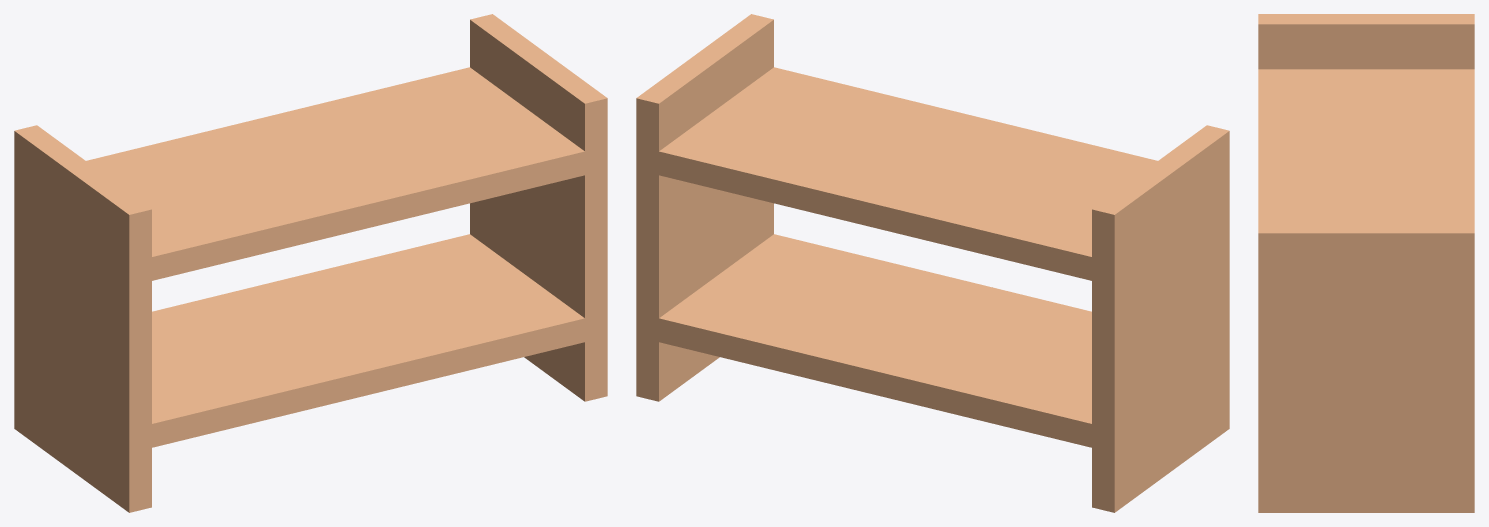
The picture shows the model from 3 angles, left to right: view 1: azimuth 30°, elevation 25°; view 2: azimuth 150°, elevation 25°; view 3: azimuth 270°, elevation 25°; orthographic projection. The views are drawn at different scales.
Parts seen in each view (by area): view 1: Shelf.001, Shelf, Side, Side.001; view 2: Shelf.001, Shelf, Side, Side.001; view 3: Side.001, Shelf.001, Side.
Boxes of the visible parts, x1,y1,x2,y2 form: Shelf.001: [86, 67, 596, 283]; Shelf: [140, 234, 596, 450]; Side: [14, 125, 151, 512]; Side.001: [470, 14, 607, 401]; Shelf.001: [659, 67, 1157, 282]; Shelf: [647, 234, 1103, 450]; Side: [1092, 125, 1229, 512]; Side.001: [636, 14, 773, 401]; Side.001: [1258, 222, 1474, 512]; Shelf.001: [1258, 69, 1474, 222]; Side: [1258, 14, 1474, 69].
Bounding box in the file's own units: 84 × 50 × 35.
